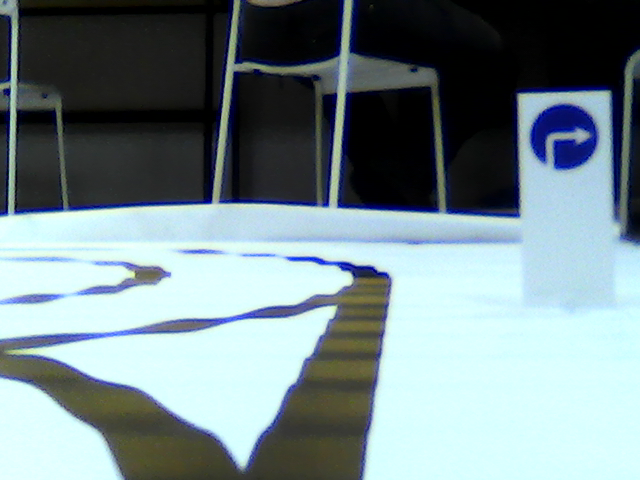Right: (531, 102, 598, 169)
